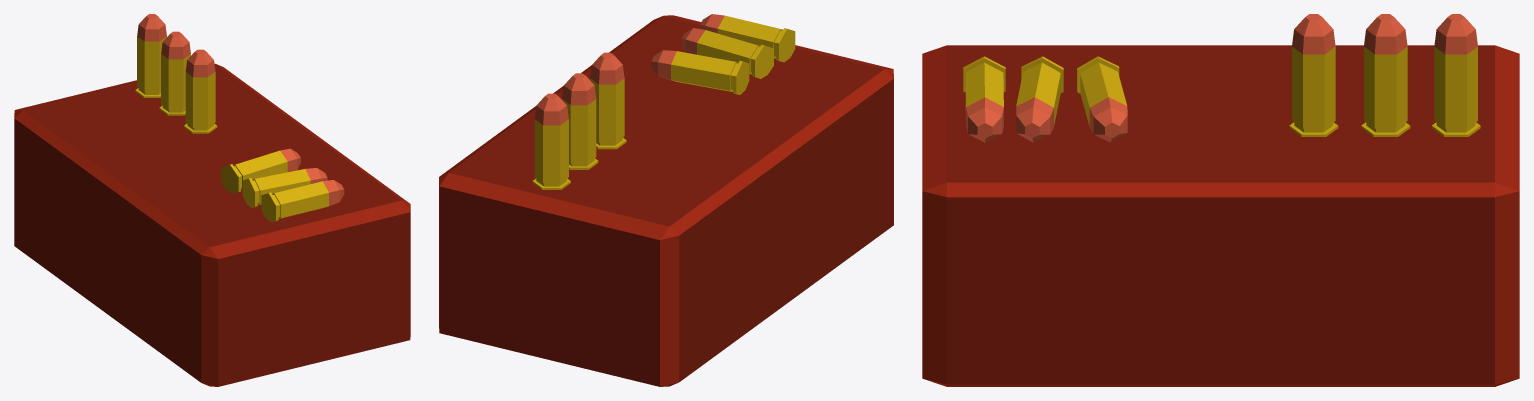
The model's file is prop_pistolammo_box.glb.
3 views of the same model, side by side, from view 1: azimuth 30°, elevation 25°; view 2: azimuth 150°, elevation 25°; view 3: azimuth 270°, elevation 25° (orthographic). The views are drawn at different scales.
Parts seen in each view (by area): view 1: PistolAmmo_Box; view 2: PistolAmmo_Box; view 3: PistolAmmo_Box.
Boxes of the visible parts, bbox=[...] form: PistolAmmo_Box: bbox=[14, 14, 410, 386]; PistolAmmo_Box: bbox=[439, 14, 893, 386]; PistolAmmo_Box: bbox=[922, 14, 1519, 386].
Bounding box in the file's own units: 1.18 × 1.15 × 1.98.
